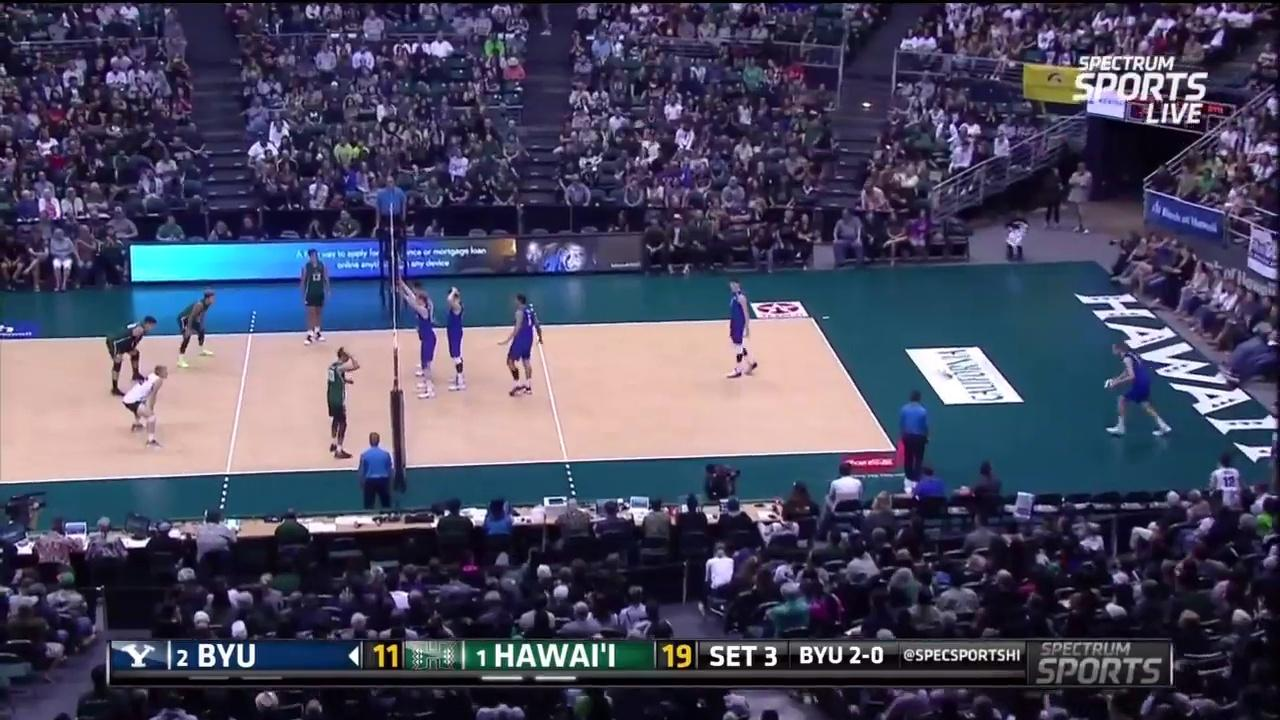player: (1106, 341, 1168, 441), (504, 295, 544, 396), (122, 365, 168, 448), (324, 346, 358, 455), (109, 317, 153, 396), (440, 285, 469, 393), (726, 282, 758, 379), (406, 277, 436, 380), (178, 289, 216, 366), (412, 294, 439, 402), (302, 248, 331, 341)
refree: (893, 385, 930, 479), (362, 434, 397, 513), (375, 175, 409, 250)
